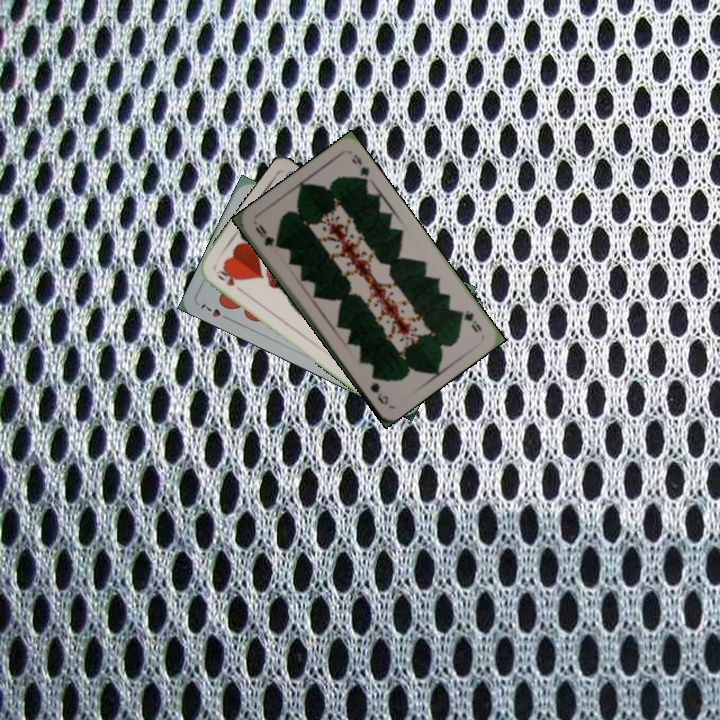G9: (251, 220, 281, 250), (454, 305, 484, 335)
H7: (197, 300, 234, 323)
HO: (214, 265, 246, 295)
